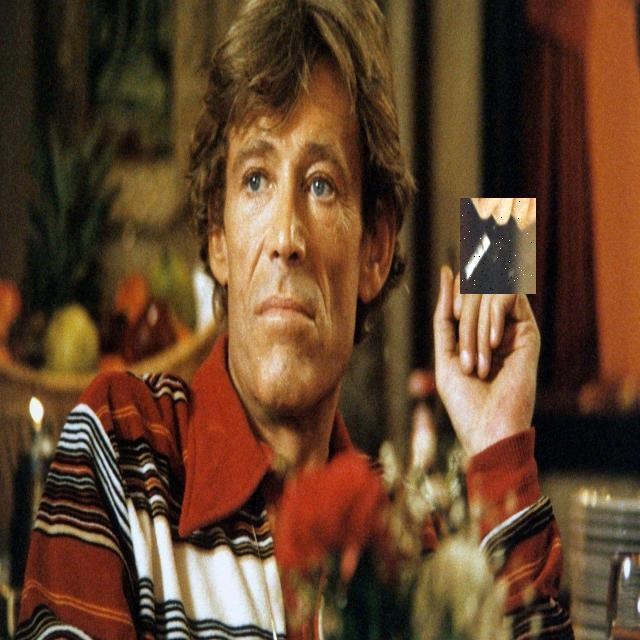smoking: (460, 198, 536, 294)
